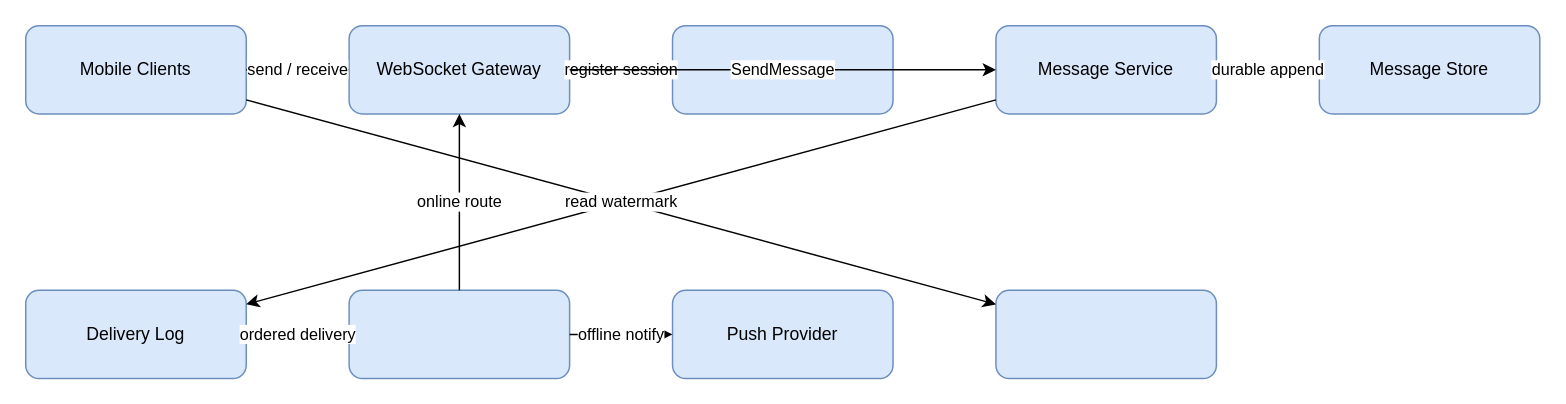
Some shapes in this 1566 by 404 pixel diagram are drawn without their labels. The centre of each missing label's shape, as x and y in pixels:
Delivery Workers: (x=459, y=334)
Receipt Store: (x=1105, y=334)
Session Registry: (x=782, y=69)
